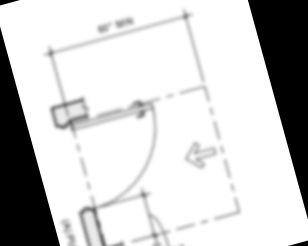door: (66, 100, 178, 211)
